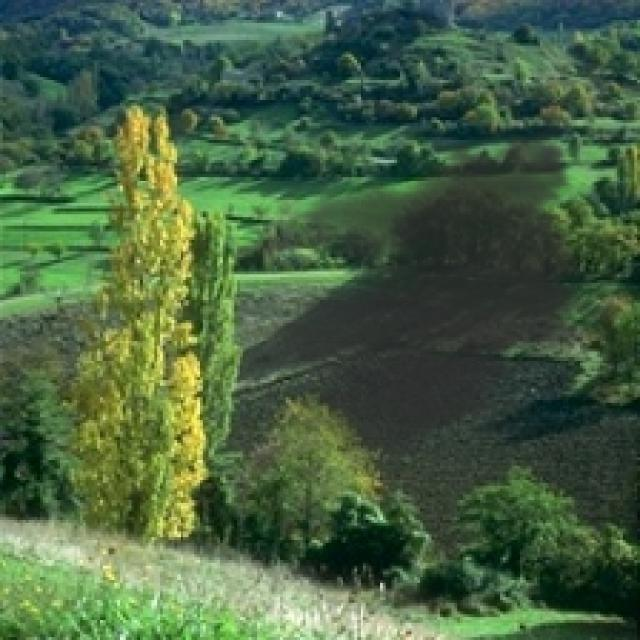Smoke: (237, 117, 603, 474)
